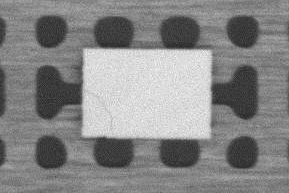DIE_CRACK: (85, 90, 112, 129)
